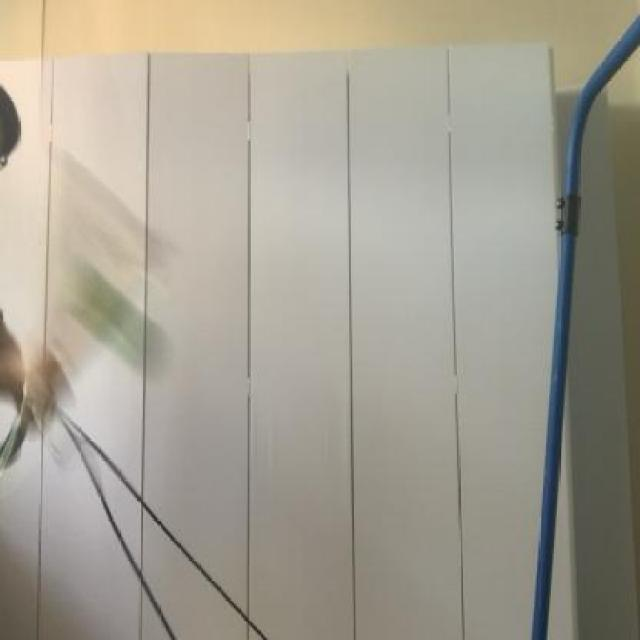baseball: (70, 256, 179, 384)
